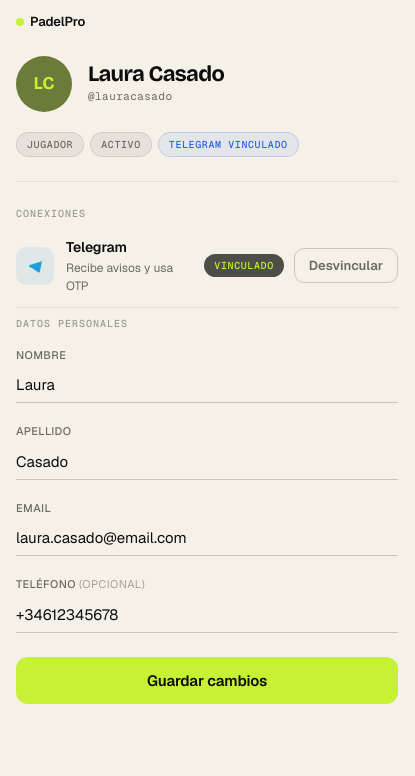
Test case: MiPerfilPage (T-144) › P-2 — should show success message after update
The width and height of the screenshot is (415, 776).
Note: Change firstName
Replace the text in the field labelled "Nombre" with "Laura Updated" at (207, 385), box [16,367,398,403]
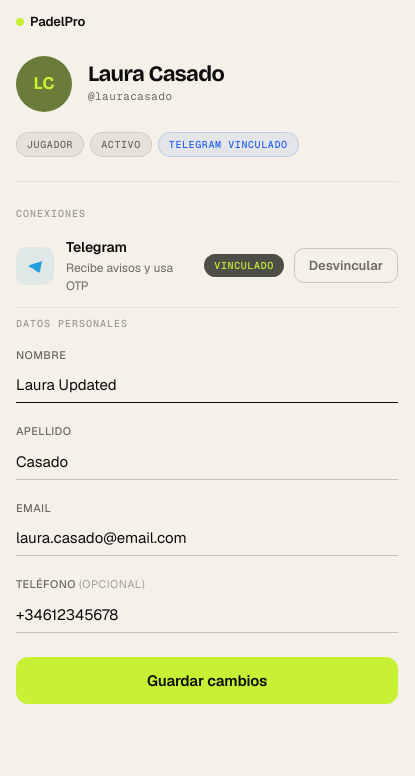
Click the button "Guardar cambios" at (207, 680), box [16,656,398,704]
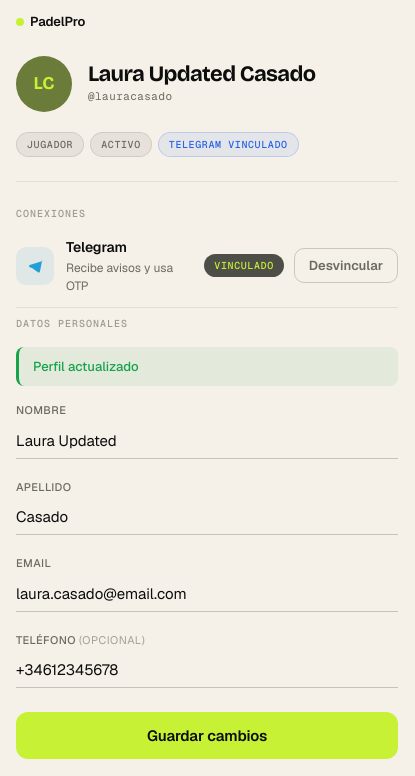
Check: the text "Perfil actualizado" is shown, box [16,346,398,386]
